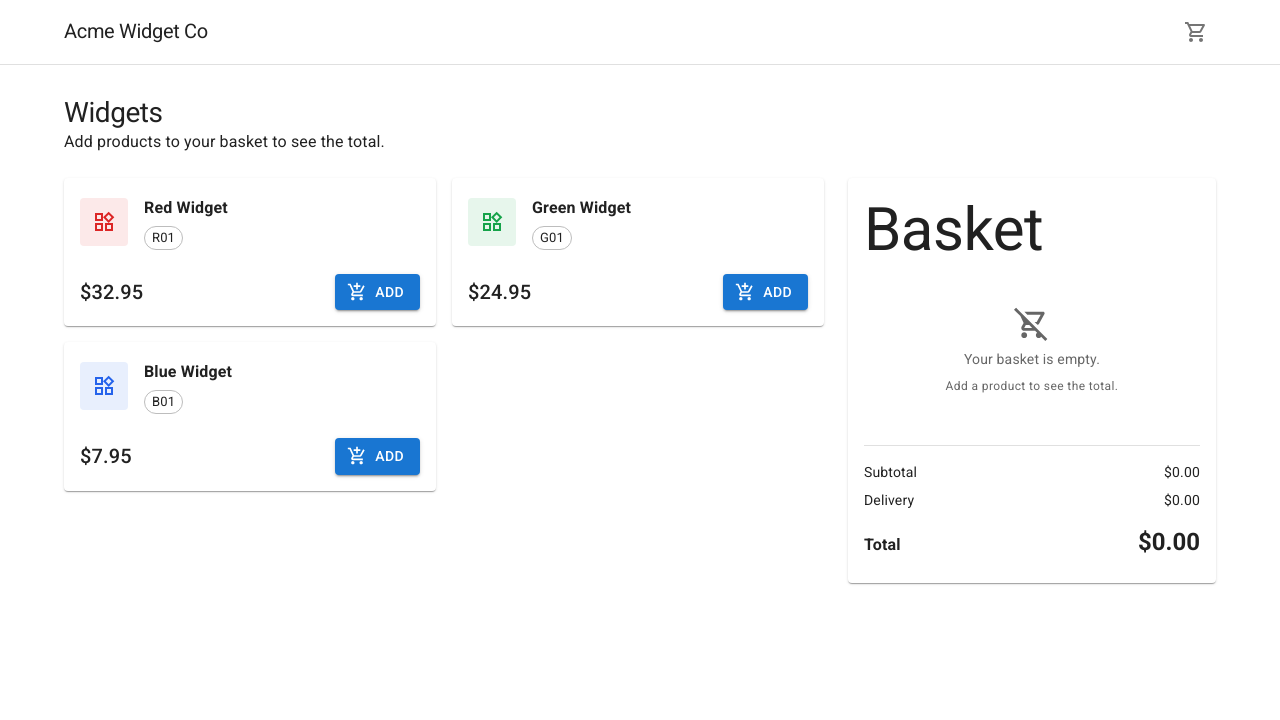
Scenario: BasketPage › removes the line and resets the total when the last unit is removed
Click the button "Add" in the row of "$32.95": (378, 292) x1=335 y1=274 x2=420 y2=310
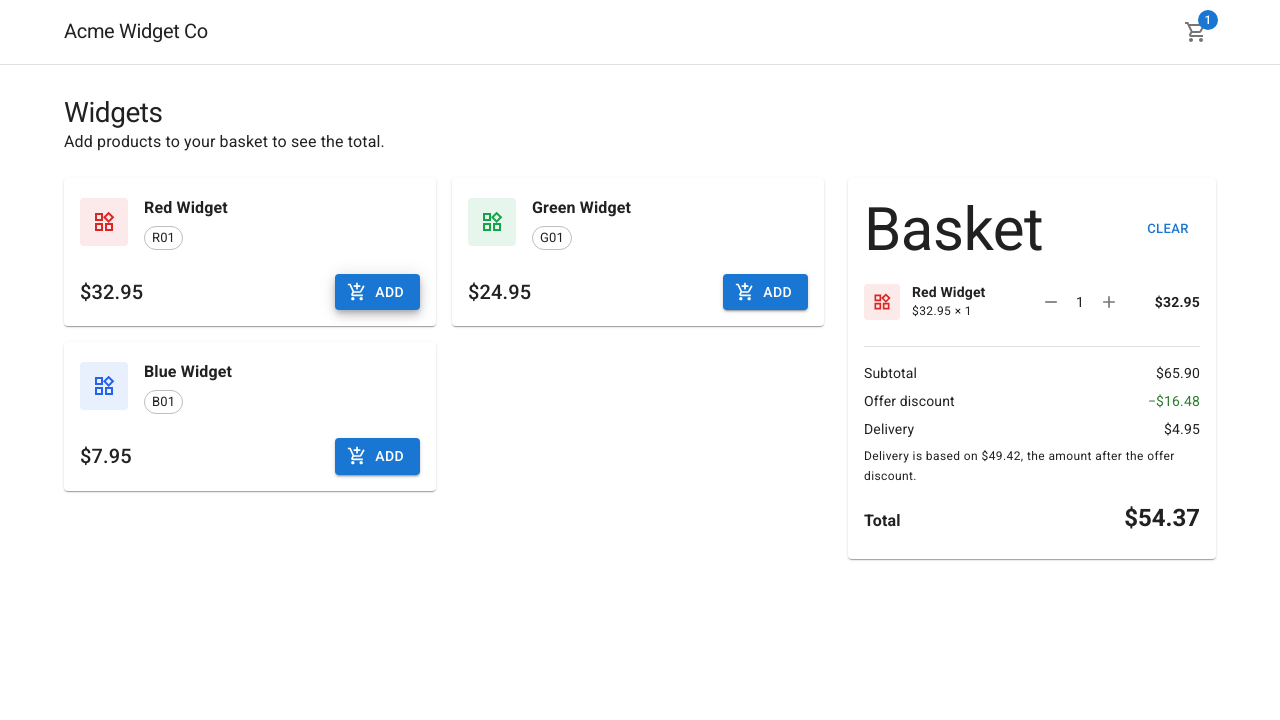
Expected: the text "$54.37" is shown, x1=1124 y1=502 x2=1200 y2=534
Click the button named "Remove one Red Widget": (1051, 302) x1=1036 y1=287 x2=1066 y2=317
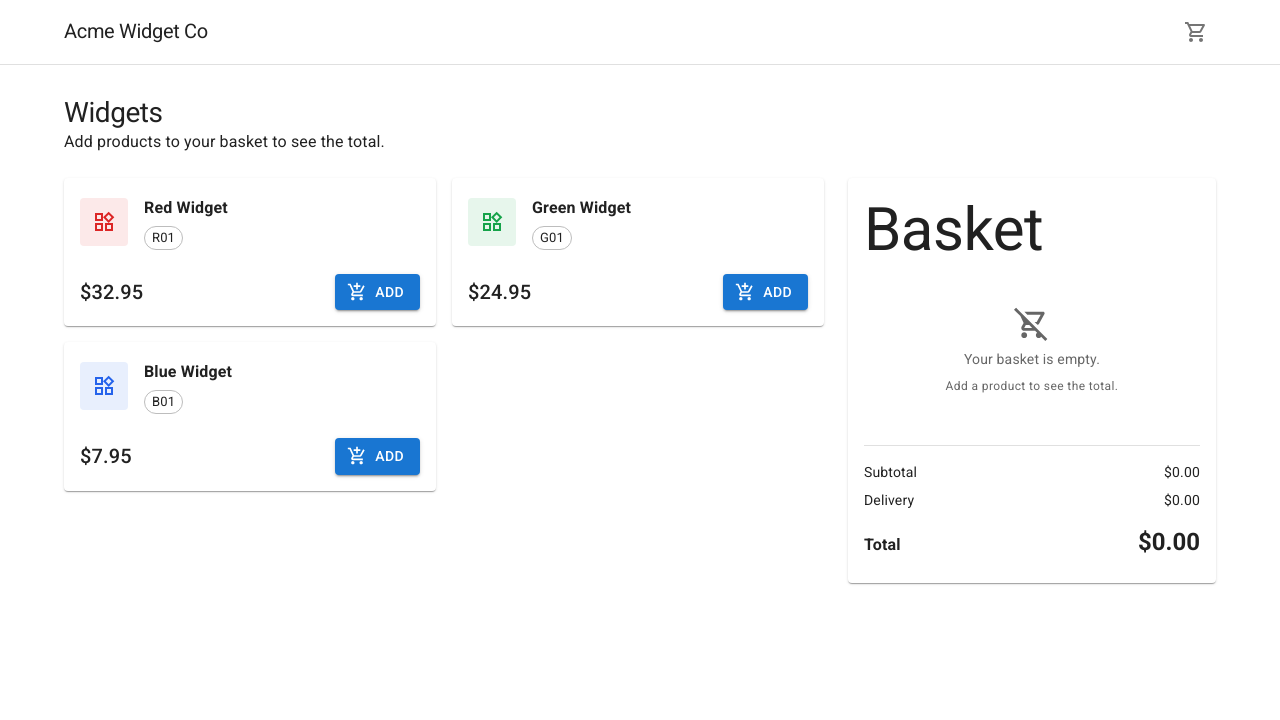
Result: the text "Your basket is empty." is shown at x1=964 y1=349 x2=1100 y2=369
Result: the text with test id "basket-total" reads "$0.00" at x1=1138 y1=528 x2=1200 y2=556
